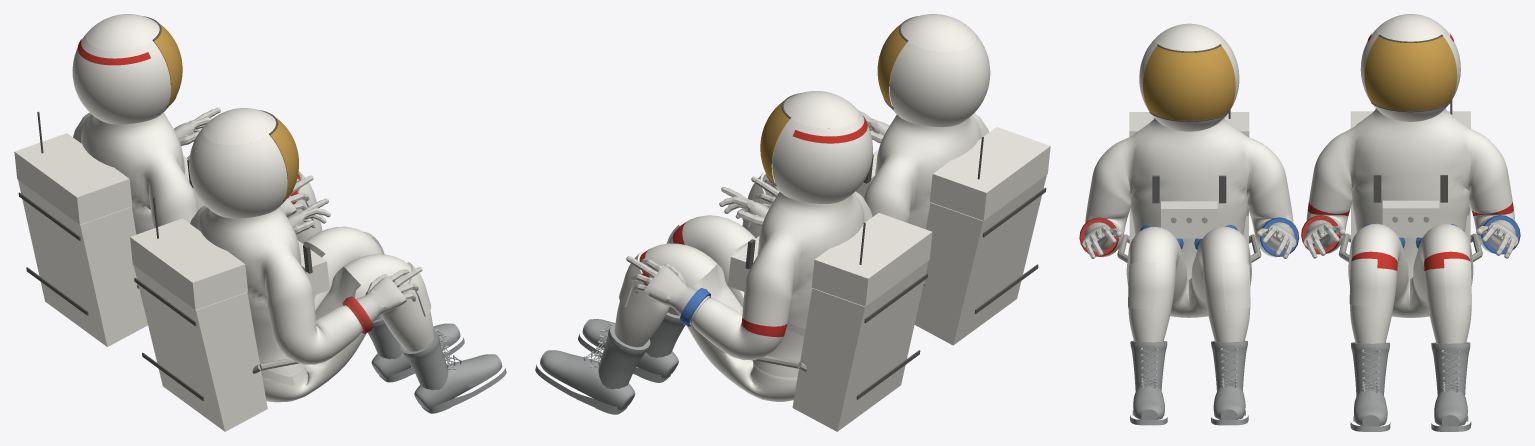
File: riders.lod1.glb
3 views of the same model, side by side, from view 1: azimuth 30°, elevation 25°; view 2: azimuth 150°, elevation 25°; view 3: azimuth 270°, elevation 25° (orthographic). The views are drawn at different scales.
Parts seen in each view (by area): view 1: Irwin_Helmet_OuterThermalCover, Scott_Helmet_OuterThermalCover, Irwin_Arms_Sleeves, Scott_Legs_Stowage, Irwin_Boots_Laces, Irwin_Gloves_PressureGloves, Scott_Gloves_PressureGloves, Irwin_Helmet_VisorRim, Scott_Helmet_GoldSunVisor, Irwin_Helmet_GoldSunVisor, Scott_Helmet_VisorRim, Scott_Helmet_CommanderBand (+1 smaller); view 2: Scott_Helmet_OuterThermalCover, Irwin_Helmet_OuterThermalCover, Scott_Legs_Stowage, Scott_Legs_Trousers, Irwin_Arms_Sleeves, Scott_Boots_Laces, Scott_Arms_Sleeves, Scott_Gloves_PressureGloves, Scott_Helmet_VisorRim, Irwin_Helmet_GoldSunVisor, Scott_Helmet_GoldSunVisor, Irwin_Helmet_VisorRim (+2 smaller); view 3: Irwin_Arms_Sleeves, Scott_Legs_Stowage, Scott_Legs_Trousers, Irwin_Helmet_GoldSunVisor, Scott_Helmet_GoldSunVisor, Scott_Boots_Laces, Irwin_Helmet_OuterThermalCover, Scott_Helmet_OuterThermalCover, Irwin_Boots_Laces, Scott_Gloves_PressureGloves, Irwin_Gloves_PressureGloves, Scott_Arms_Sleeves (+7 smaller).
Boxes of the visible parts, x1,y1,x2,y2 form: Irwin_Helmet_OuterThermalCover: (130,108,329,431); Scott_Helmet_OuterThermalCover: (14,14,204,346); Irwin_Arms_Sleeves: (190,205,433,402); Scott_Legs_Stowage: (73,112,318,234); Irwin_Boots_Laces: (368,317,506,413); Irwin_Gloves_PressureGloves: (287,198,422,331); Scott_Gloves_PressureGloves: (174,107,313,216); Irwin_Helmet_VisorRim: (134,110,312,400); Scott_Helmet_GoldSunVisor: (154,23,182,105); Irwin_Helmet_GoldSunVisor: (270,118,298,199); Scott_Helmet_VisorRim: (18,16,193,315); Scott_Helmet_CommanderBand: (77,39,150,65); Scott_Helmet_OuterThermalCover: (728,91,932,431); Irwin_Helmet_OuterThermalCover: (856,14,1050,345); Scott_Legs_Stowage: (619,191,872,377); Scott_Legs_Trousers: (614,215,797,401); Irwin_Arms_Sleeves: (742,113,988,237); Scott_Boots_Laces: (535,312,685,414); Scott_Arms_Sleeves: (692,298,787,360); Scott_Gloves_PressureGloves: (626,187,769,325); Scott_Helmet_VisorRim: (745,93,927,399); Irwin_Helmet_GoldSunVisor: (877,24,906,107); Scott_Helmet_GoldSunVisor: (760,101,789,184); Irwin_Helmet_VisorRim: (863,16,1046,313); Irwin_Arms_Sleeves: (1084,118,1294,342); Scott_Legs_Stowage: (1309,108,1511,307); Scott_Legs_Trousers: (1348,223,1473,343); Irwin_Helmet_GoldSunVisor: (1143,46,1235,120); Scott_Helmet_GoldSunVisor: (1364,36,1457,111); Scott_Boots_Laces: (1350,342,1471,431); Irwin_Helmet_OuterThermalCover: (1129,23,1249,245); Scott_Helmet_OuterThermalCover: (1350,14,1470,243); Irwin_Boots_Laces: (1130,340,1248,425); Scott_Gloves_PressureGloves: (1303,220,1518,258); Irwin_Gloves_PressureGloves: (1082,222,1296,258); Scott_Arms_Sleeves: (1306,197,1515,253).
Bounding box in the file's own units: 1.18 × 1.14 × 1.42.
